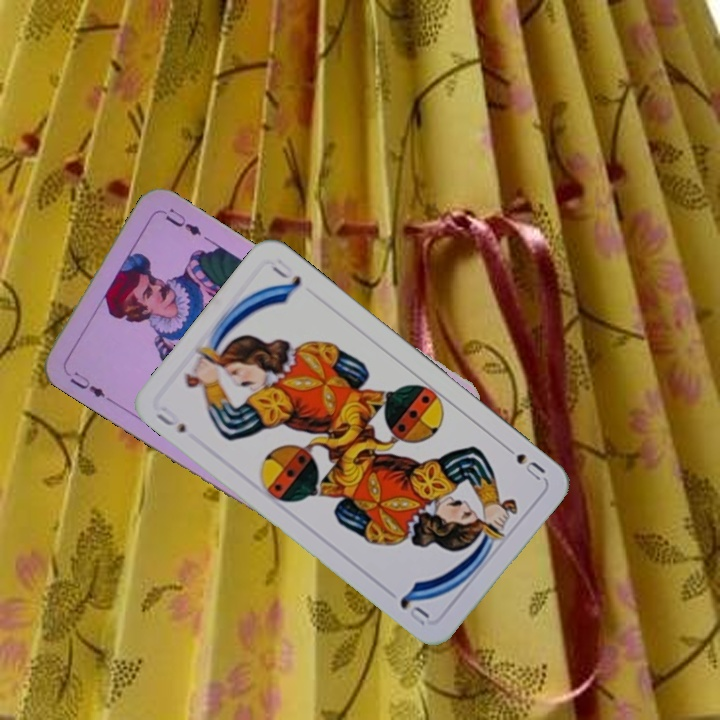EU: (59, 363, 111, 402)
SU: (497, 439, 548, 483), (152, 402, 189, 436)
